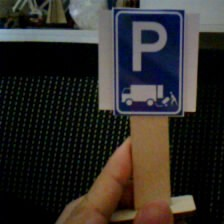load: (102, 7, 197, 120)
